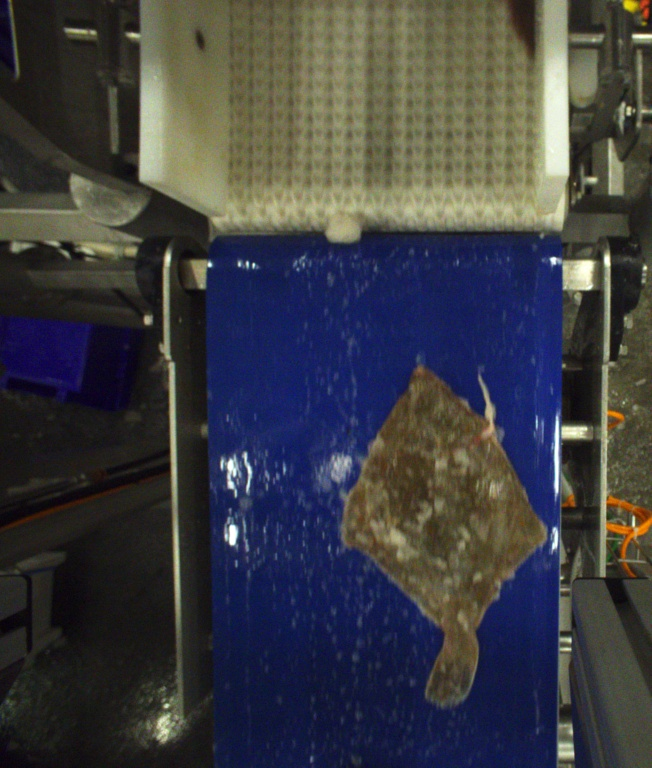PLE: (342, 362, 548, 704)
